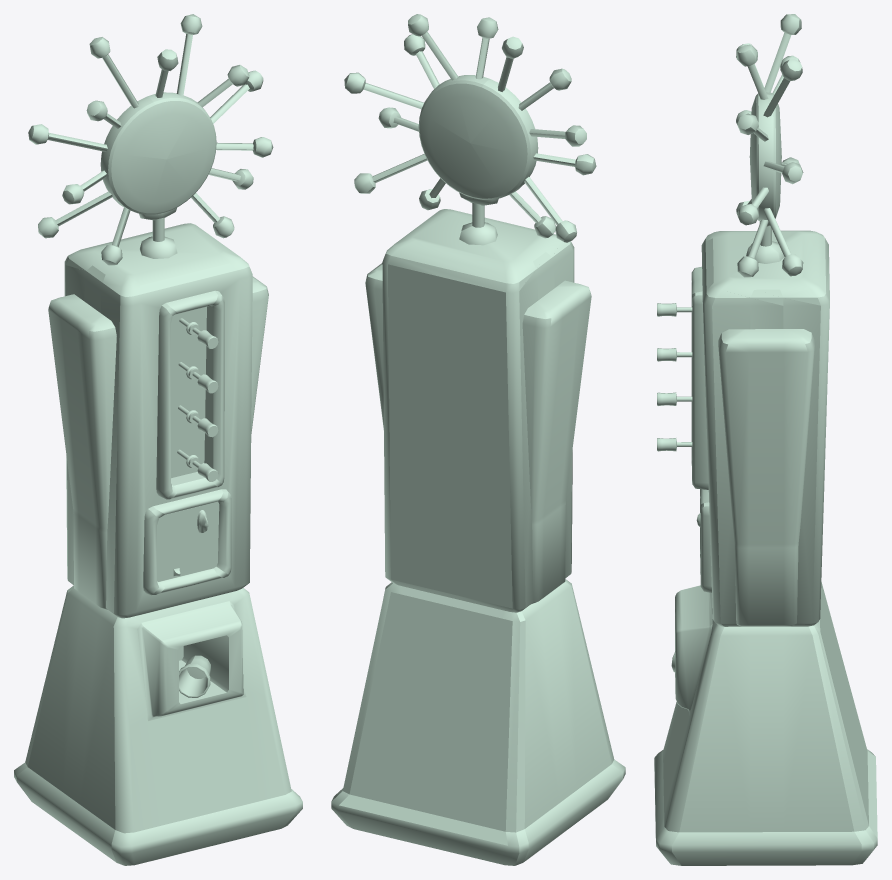
The model's file is PHD Flopper.fbx.
3 views of the same model, side by side, from view 1: azimuth 30°, elevation 25°; view 2: azimuth 150°, elevation 25°; view 3: azimuth 270°, elevation 25° (orthographic). The views are drawn at different scales.
Visible parts, largest first — view 1: phdflopper; view 2: phdflopper; view 3: phdflopper.
Boxes of the visible parts, left/top/right/bottom form: phdflopper: left=14, top=14, right=302, bottom=865; phdflopper: left=331, top=14, right=625, bottom=865; phdflopper: left=654, top=14, right=877, bottom=865.
Bounding box in the file's own units: 2892 × 9188 × 2365.
